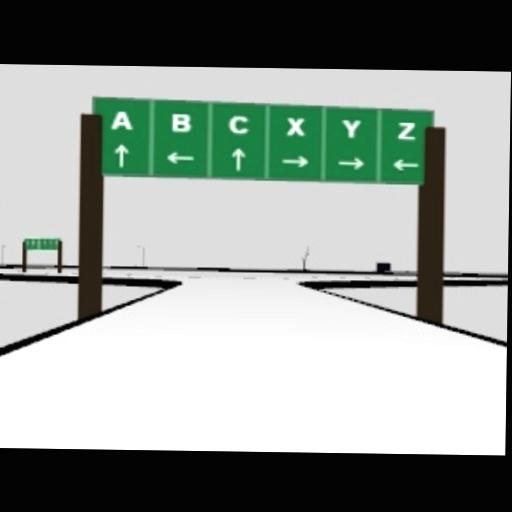A: (110, 110, 133, 129)
B: (170, 111, 193, 132)
C: (228, 115, 249, 134)
Left: (166, 151, 194, 164), (392, 158, 418, 170)
Right: (337, 156, 365, 170), (281, 155, 309, 168)
Straight: (231, 147, 245, 170), (115, 143, 129, 166)
X: (286, 116, 305, 135)
Y: (341, 119, 360, 138)
Z: (396, 121, 415, 139), (25, 239, 34, 248)
